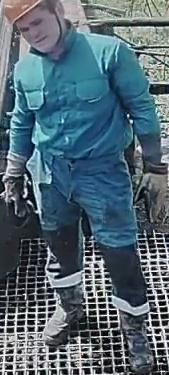gloves: (132, 164, 168, 225), (2, 172, 37, 229)
helmet: (2, 0, 46, 27)
vest: (15, 34, 134, 194)
